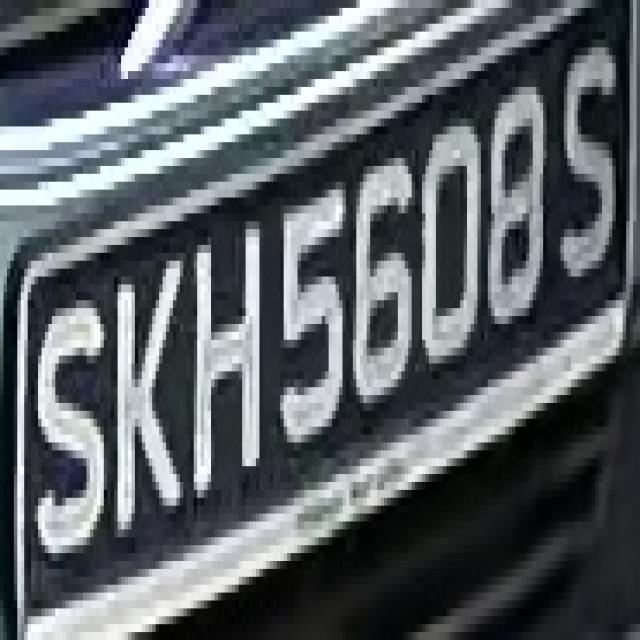0: (422, 95, 491, 395)
5: (273, 166, 346, 458)
6: (350, 126, 426, 442)
8: (481, 63, 550, 332)
H: (187, 197, 270, 514)
K: (104, 245, 190, 545)
S: (35, 284, 107, 569), (557, 24, 626, 308)
